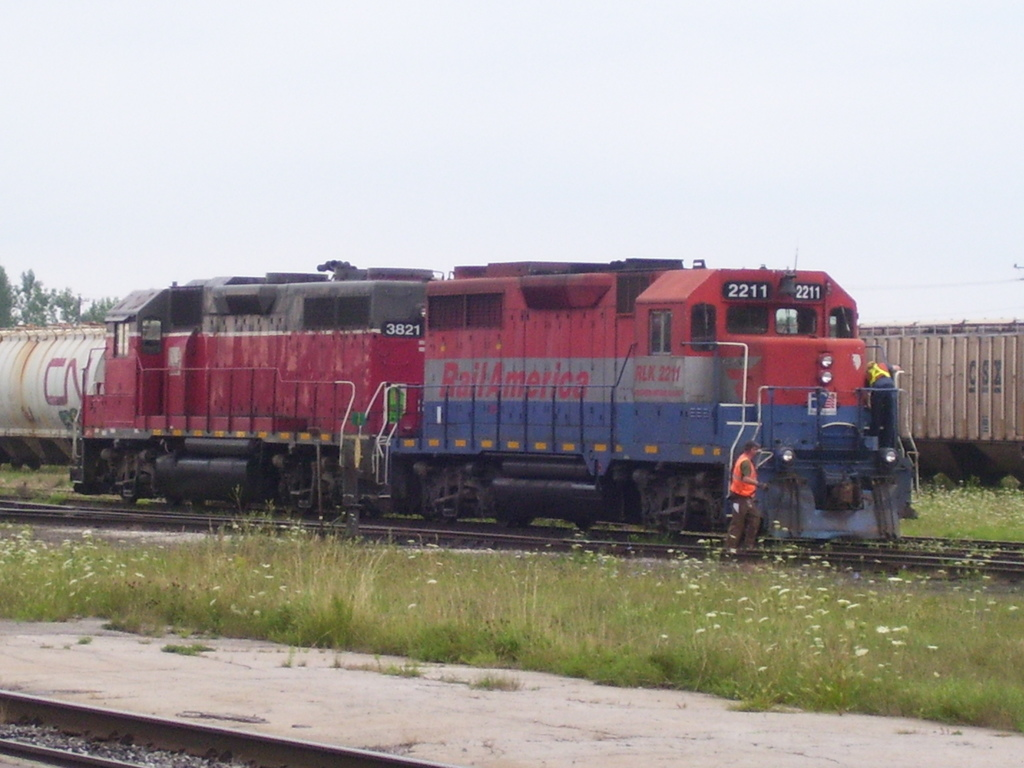train: (67, 254, 915, 545), (852, 320, 1023, 482)
